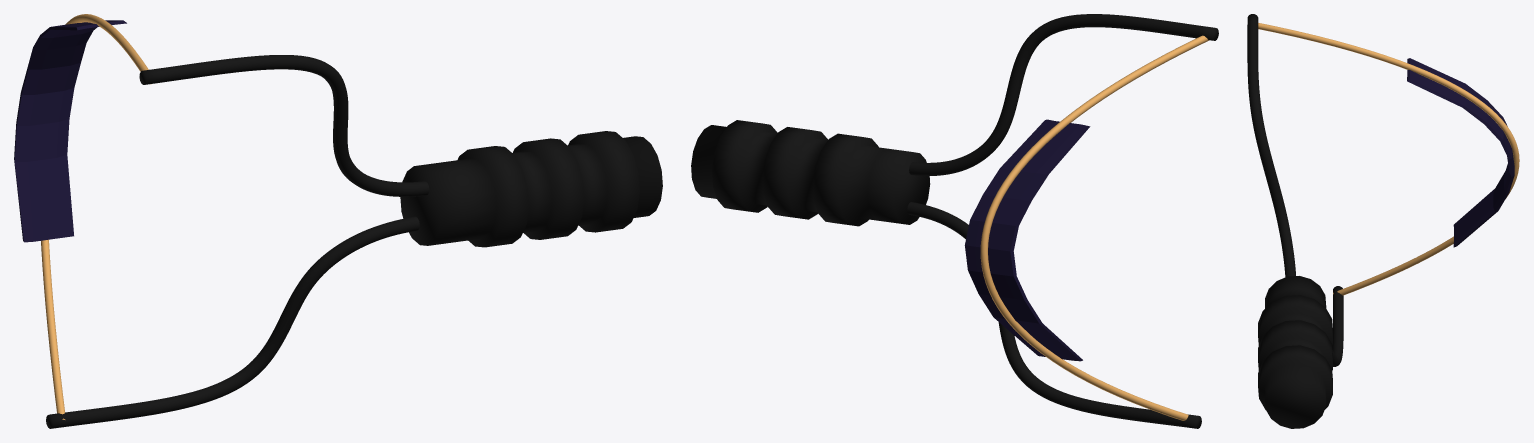
The model's file is bow ani.fbx.
3 views of the same model, side by side, from view 1: azimuth 30°, elevation 25°; view 2: azimuth 150°, elevation 25°; view 3: azimuth 270°, elevation 25° (orthographic). The views are drawn at different scales.
Visible parts, largest first — view 1: NurbsPath.001; view 2: NurbsPath.001; view 3: NurbsPath.001.
Part boxes in pixels (x1,y1,x2,y2): NurbsPath.001: (14, 14, 662, 428); NurbsPath.001: (691, 14, 1218, 428); NurbsPath.001: (1247, 14, 1519, 428).
Bounding box in the file's own units: 157 × 106 × 85.6.
